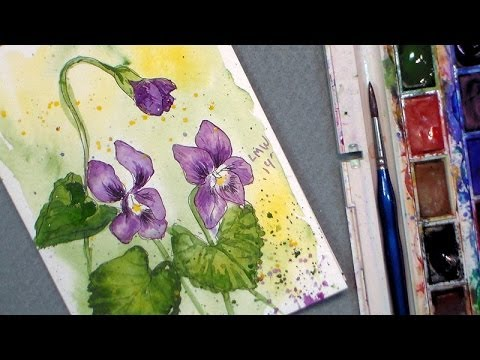violet: (164, 130, 267, 220), (82, 151, 175, 248)
